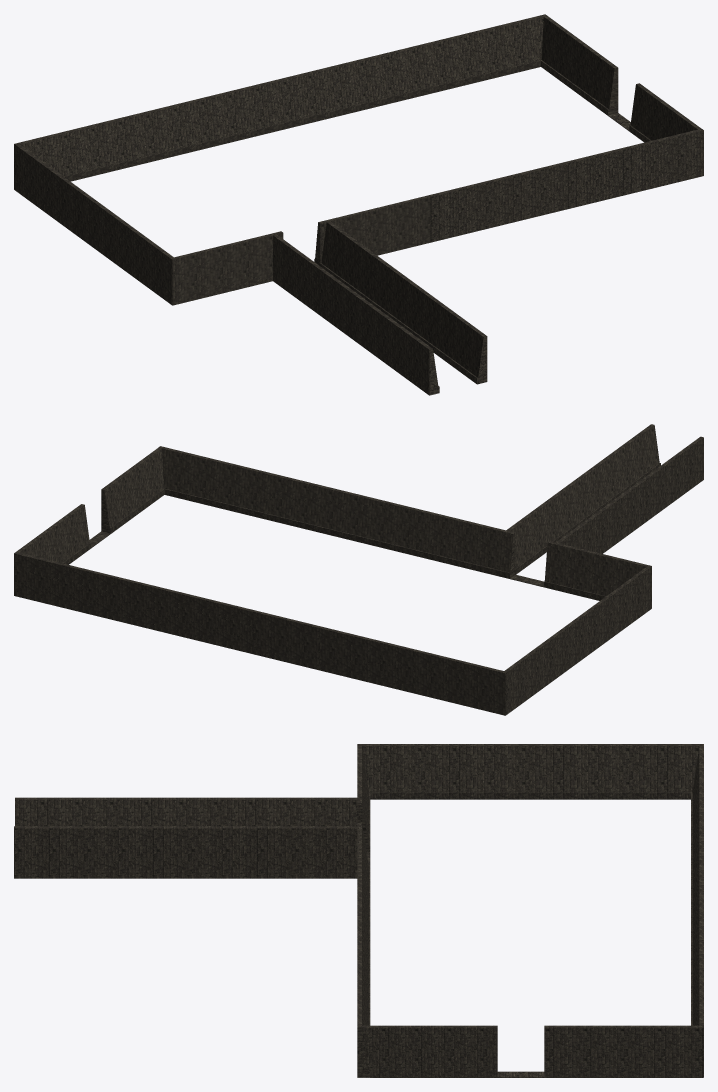
Rendered from room_long.fbx.
The picture shows the model from 3 angles, top to bottom: view 1: azimuth 30°, elevation 25°; view 2: azimuth 150°, elevation 25°; view 3: azimuth 270°, elevation 25°; orthographic projection. The views are drawn at different scales.
Parts seen in each view (by area): view 1: polySurface11; view 2: polySurface11; view 3: polySurface11.
Boxes of the visible parts, left/top/right/bottom form: polySurface11: left=14, top=14, right=703, bottom=395; polySurface11: left=14, top=424, right=703, bottom=715; polySurface11: left=14, top=744, right=703, bottom=1077.
Size of the model in its own units: 145 by 12 by 149.
2 materials, 1 textured.
